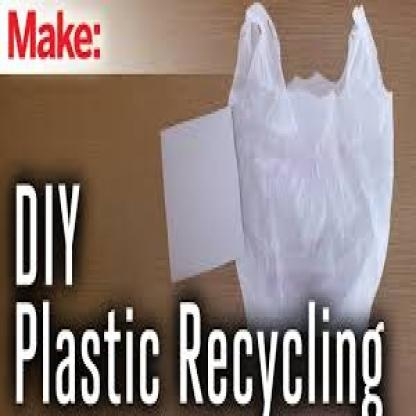trash: (229, 4, 392, 326)
